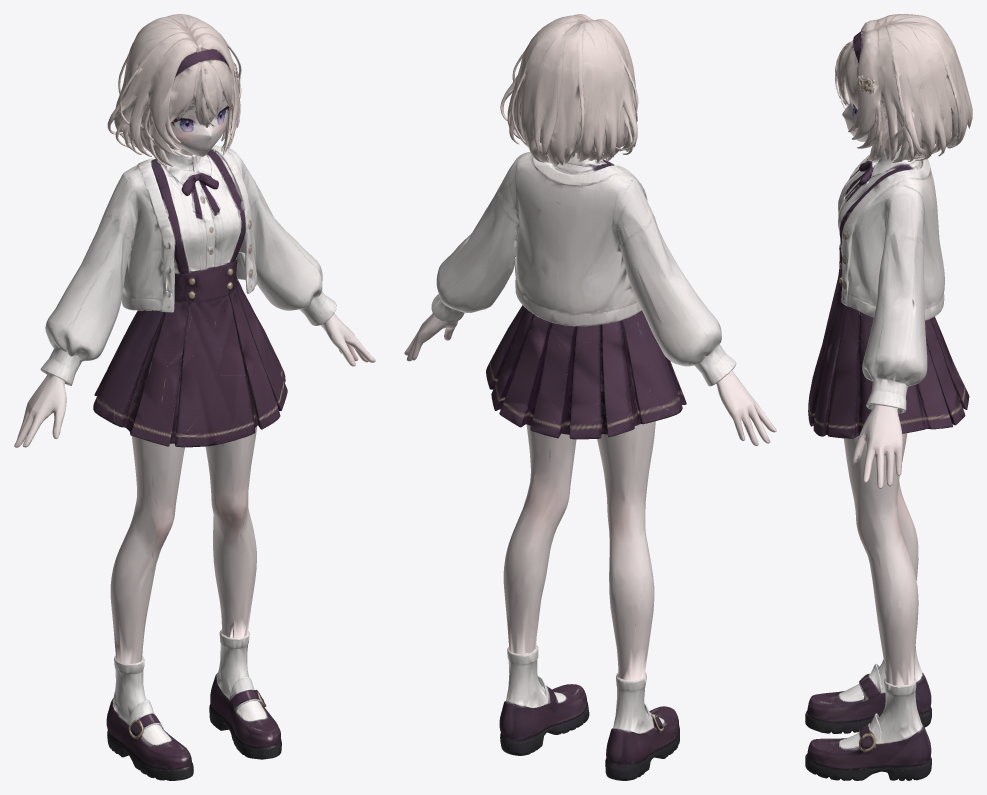
File: cheng_mo.glb
3 renders of one model, left to right at view 1: azimuth 30°, elevation 25°; view 2: azimuth 150°, elevation 25°; view 3: azimuth 270°, elevation 25°, orthographic. The views are drawn at different scales.
Visible parts, largest first — view 1: Mesh_0; view 2: Mesh_0; view 3: Mesh_0.
Boxes of the visible parts, bbox=[...] form: Mesh_0: bbox=[14, 14, 375, 780]; Mesh_0: bbox=[404, 14, 776, 780]; Mesh_0: bbox=[805, 14, 972, 780].
Size of the model in its own units: 0.8573 by 1.65 by 0.3442.
1 material, 1 textured.
